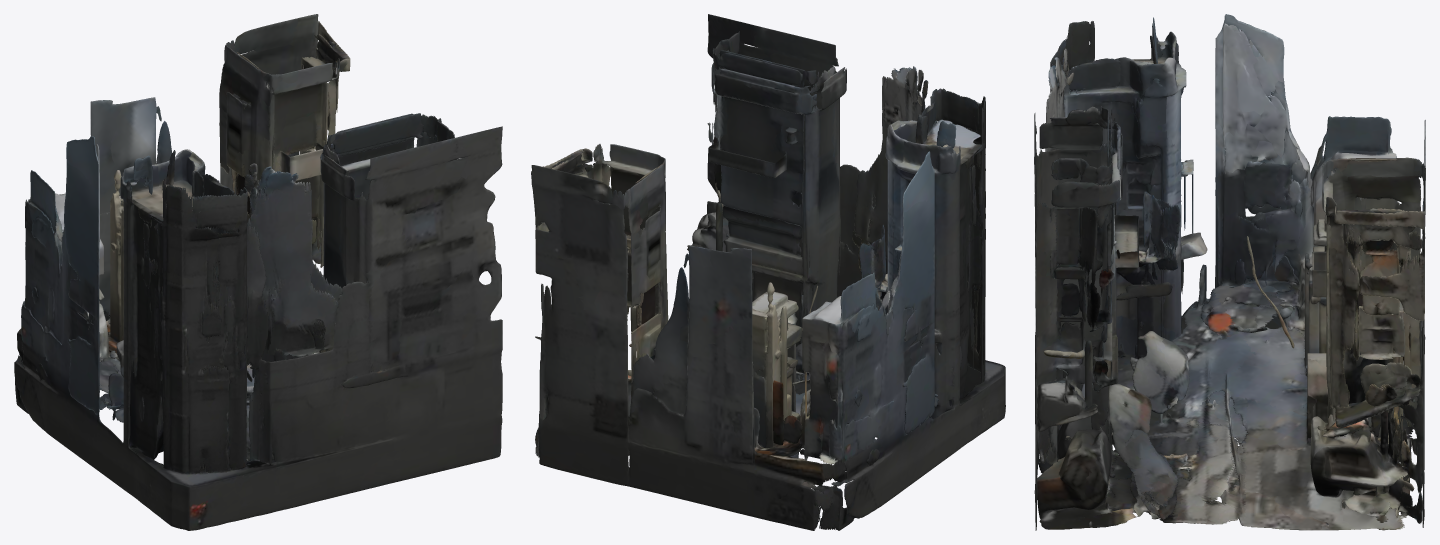
The model's file is street_ruins.glb.
The picture shows the model from 3 angles, left to right: view 1: azimuth 30°, elevation 25°; view 2: azimuth 150°, elevation 25°; view 3: azimuth 270°, elevation 25°; orthographic projection. The views are drawn at different scales.
Visible parts, largest first — view 1: tripo_node_81728006-445b-404d-898a-74350f26eaa7; view 2: tripo_node_81728006-445b-404d-898a-74350f26eaa7; view 3: tripo_node_81728006-445b-404d-898a-74350f26eaa7.
Boxes of the visible parts, bbox=[...] form: tripo_node_81728006-445b-404d-898a-74350f26eaa7: bbox=[14, 14, 502, 530]; tripo_node_81728006-445b-404d-898a-74350f26eaa7: bbox=[531, 14, 1005, 530]; tripo_node_81728006-445b-404d-898a-74350f26eaa7: bbox=[1034, 14, 1425, 530].
Bounding box in the file's own units: 0.9768 × 1 × 0.9725.
Materials: 1 (1 with a texture image).
